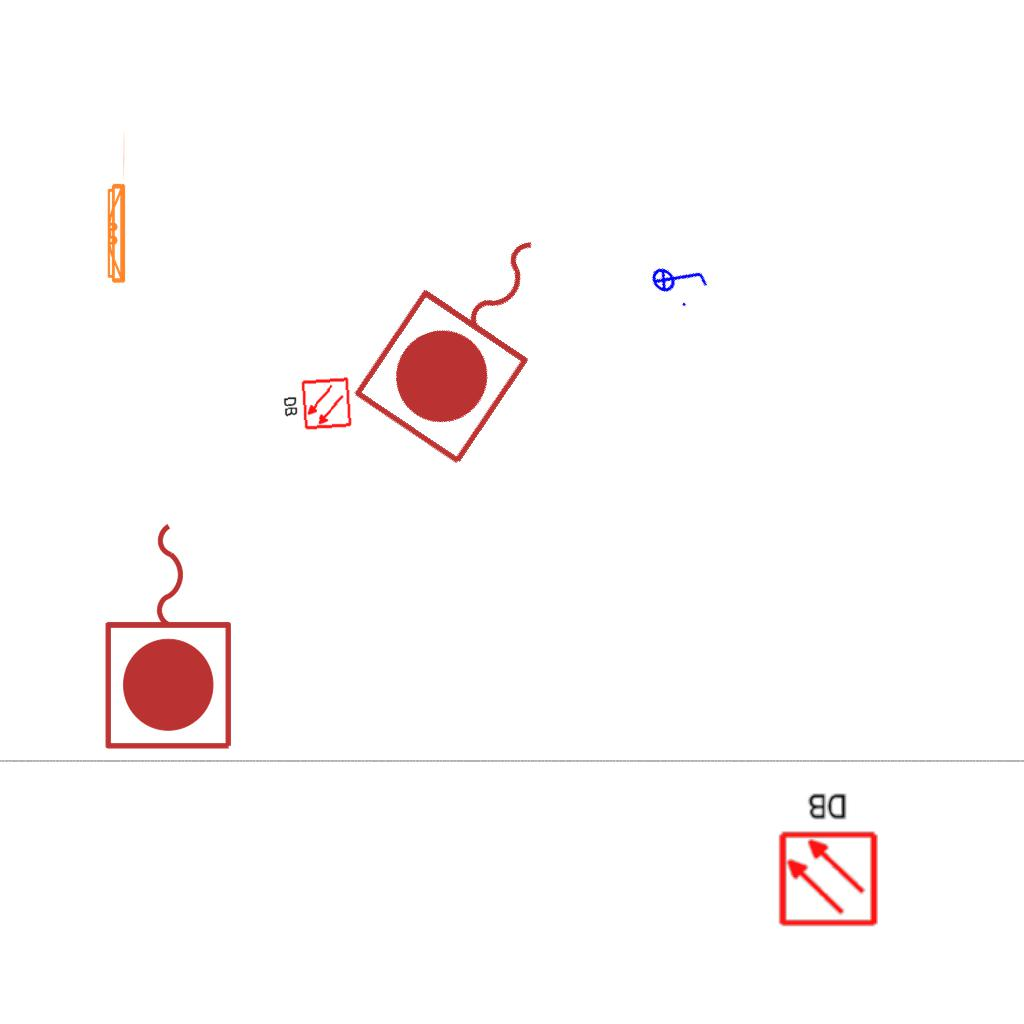Ausschalter_beleuchtet: (642, 241, 716, 315)
DB_Melder_in_Doppelboden_mit_Revisionsoeffnung_mind_40_x_40_cm: (770, 784, 884, 933), (277, 373, 356, 437)
Sicherheitsleuchte_Wandeinbau: (103, 129, 128, 288)
Zugtaster: (343, 194, 599, 478), (98, 513, 242, 757)
